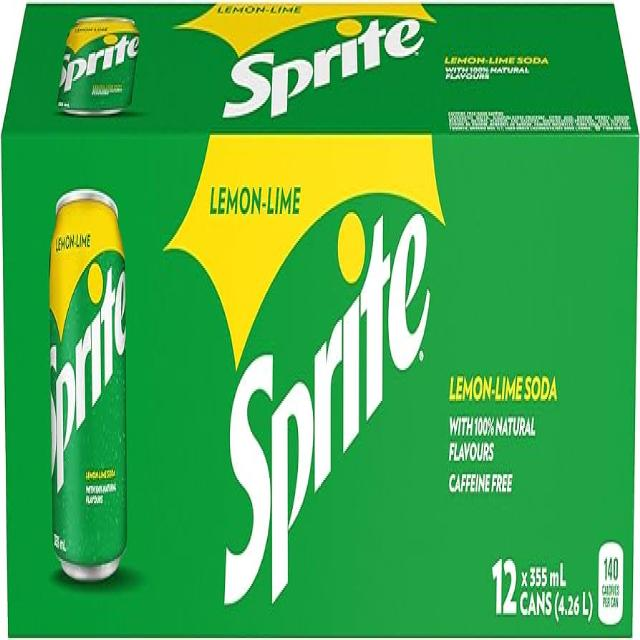sprite: (51, 183, 144, 583), (64, 0, 144, 135)
